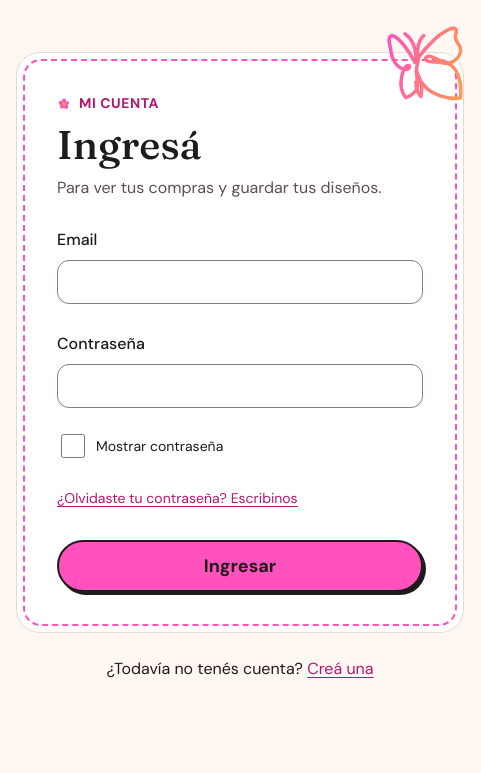
Test case: LoginForm › con credenciales incorrectas, lo dice sin revelar cuál falló
The width and height of the screenshot is (481, 773).
Step 1. Type "ana@example.com" into the field labelled "Email" → (240, 282), box x1=57 y1=260 x2=423 y2=304
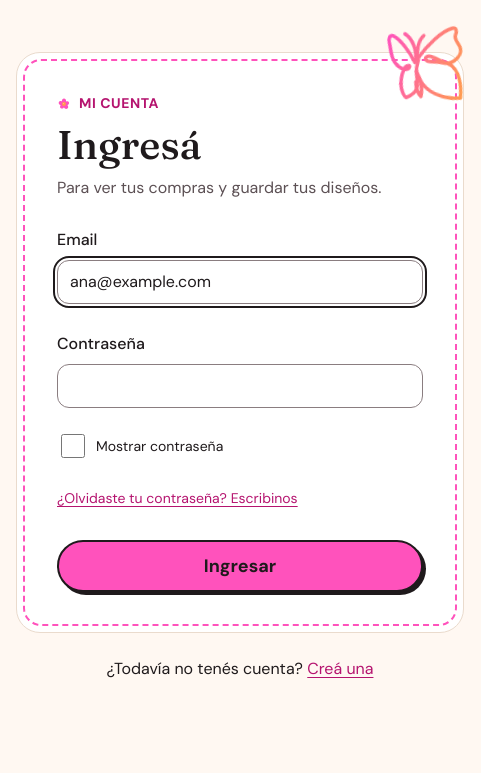
Step 2. Type "equivocada" into the password field labelled "Contraseña" → (240, 386), box x1=57 y1=364 x2=423 y2=408
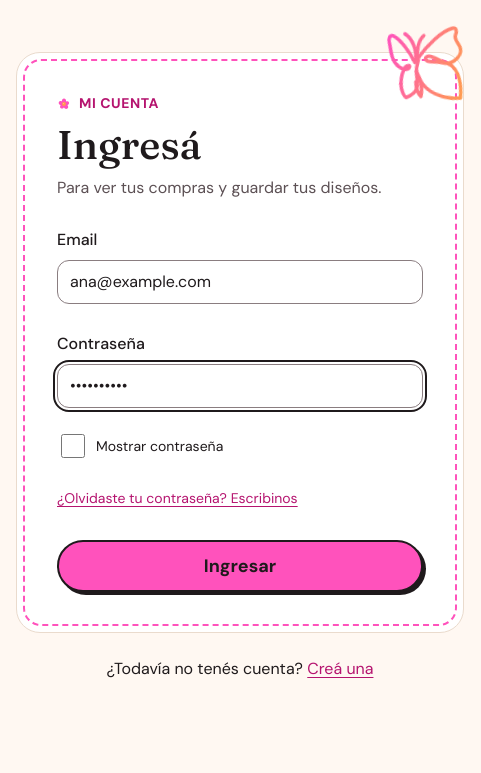
Step 3. Click the button "Ingresar" → click(240, 566), box x1=57 y1=540 x2=423 y2=592
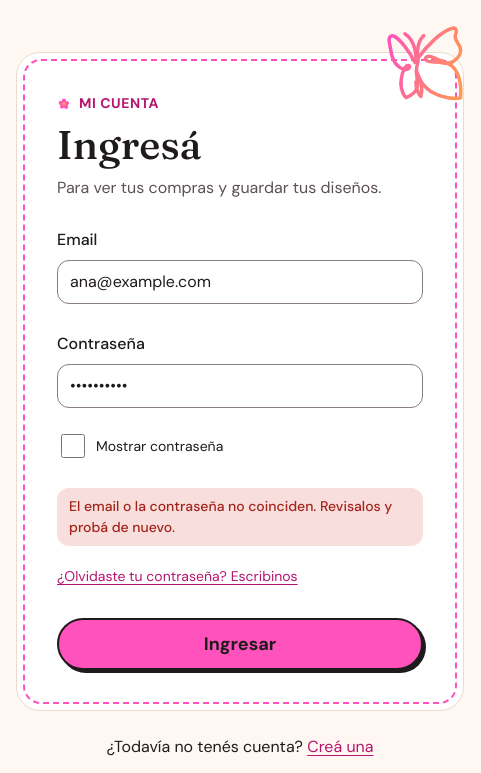
Now the message reads "El email o la contraseña no coinciden. Revisalos y probá de nuevo.", box x1=69 y1=497 x2=392 y2=536
